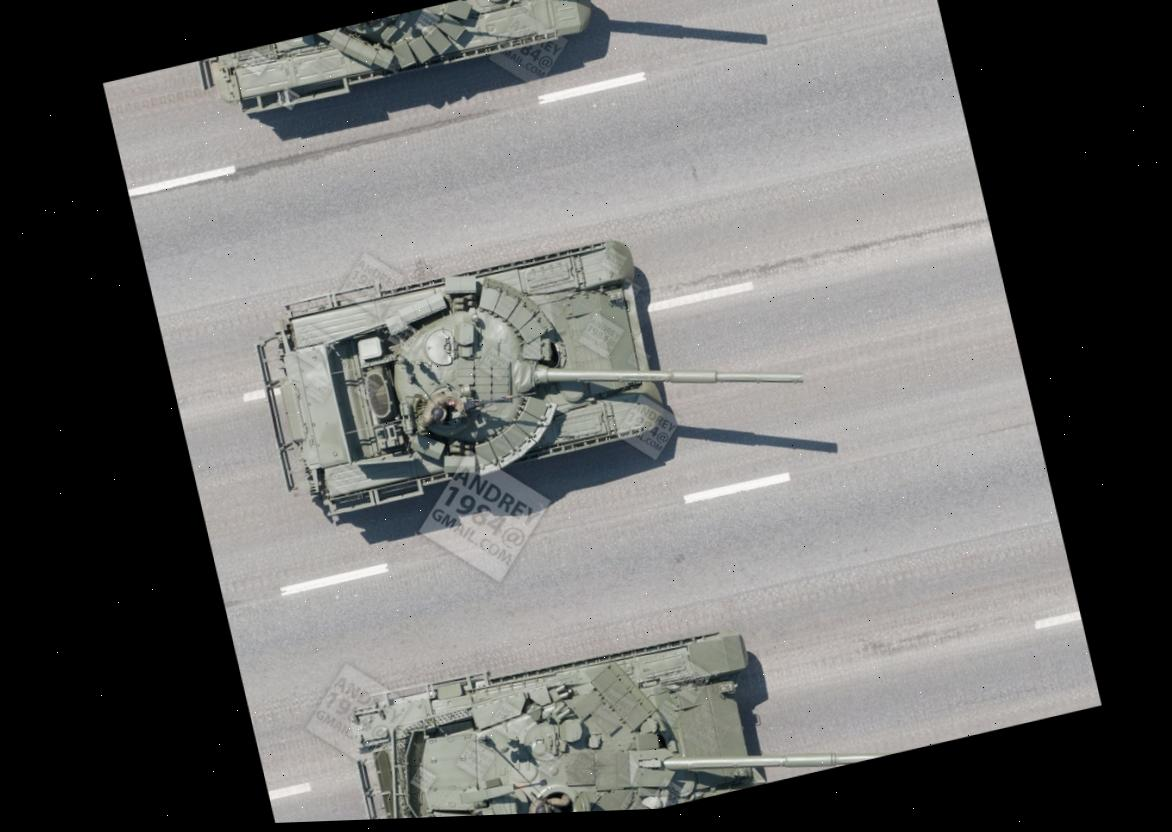tank: (232, 183, 826, 551), (332, 578, 922, 821), (183, 0, 747, 148)
